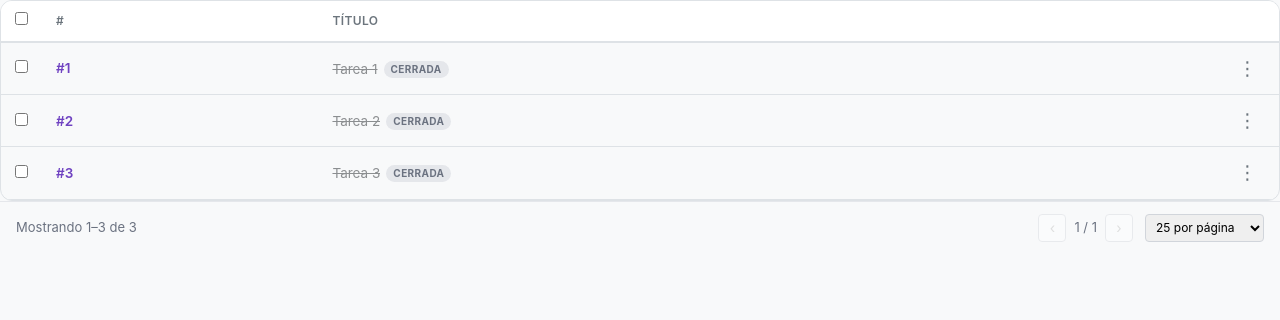
Test: TasksTableView — bulk Archivar (#86) › Archivar button enabled when all selected tasks are closed
The image size is (1280, 320).
Click the checkbox named "Seleccionar todos". click: (22, 18)
box: [15, 12, 28, 25]
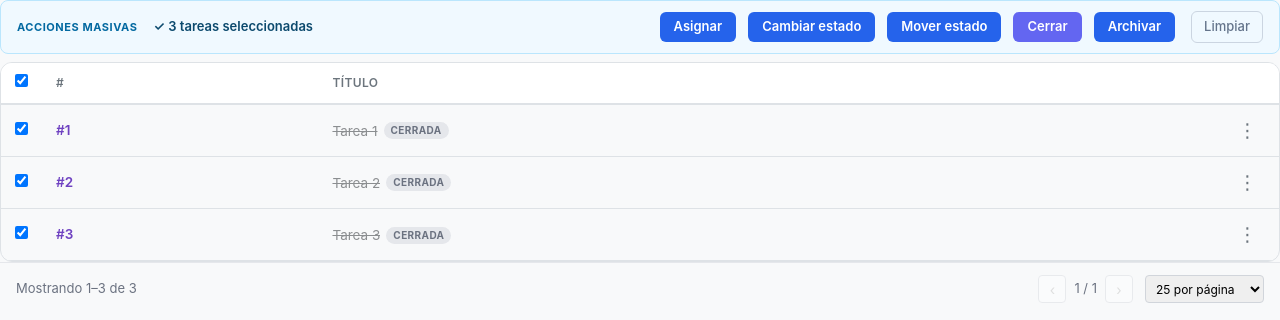
Expected: the button with test id "bulk-archive-btn" is enabled, [1094, 12, 1175, 42]
